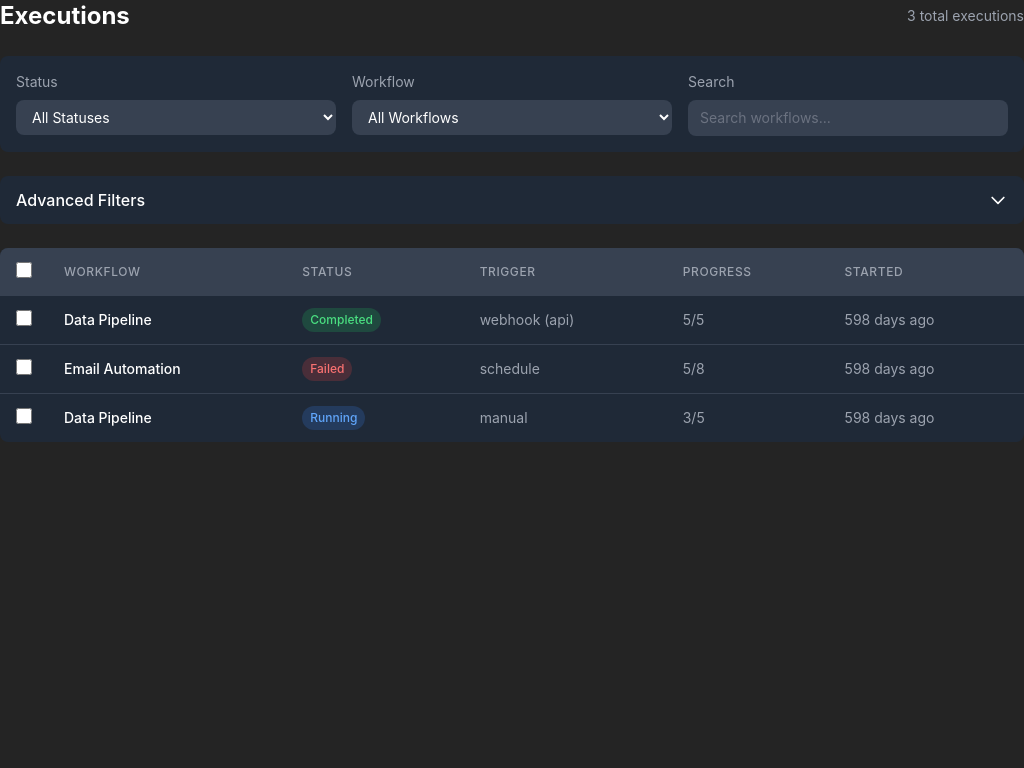
Test: Executions List Integration › Advanced Filters Integration › should expand advanced filters when clicked
This screenshot has width=1024, height=768.
What coordinates should you click on to do the following:
click the button "Advanced Filters"
I would click on:
 (81, 200)
Its box is top-left (0, 176), bottom-right (1023, 224).
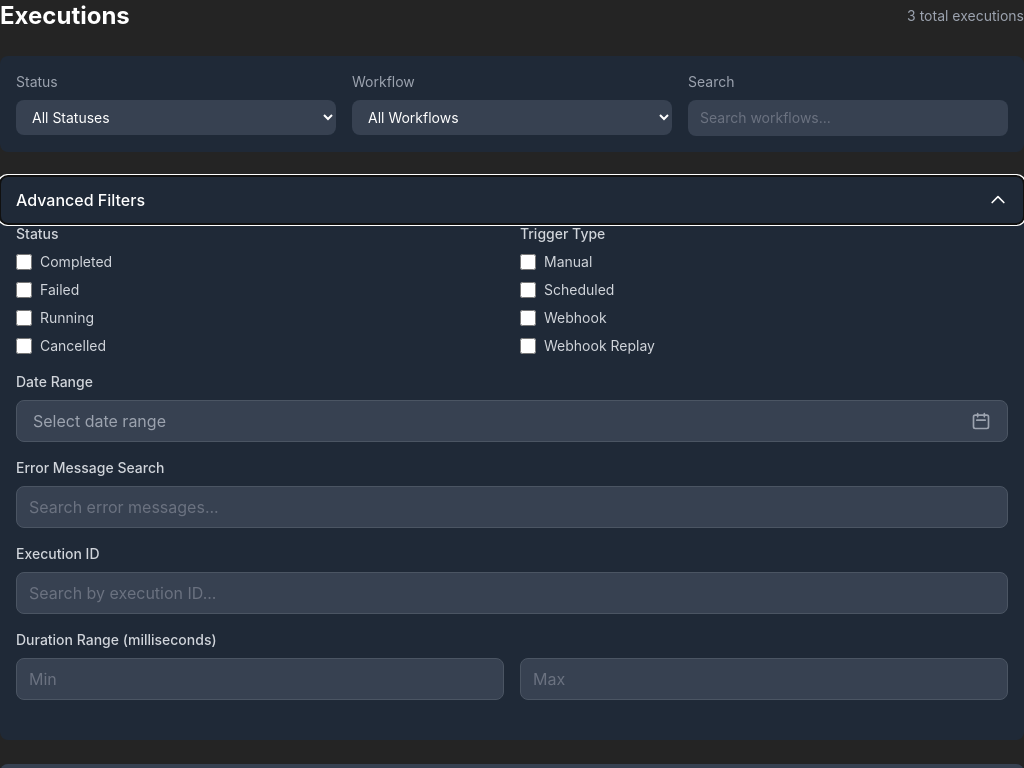
Check: the field with placeholder "Search error messages..." is shown, box top-left (16, 486), bottom-right (1008, 528)
Check: the field with placeholder "Search by execution ID..." is shown, box top-left (16, 572), bottom-right (1008, 614)
